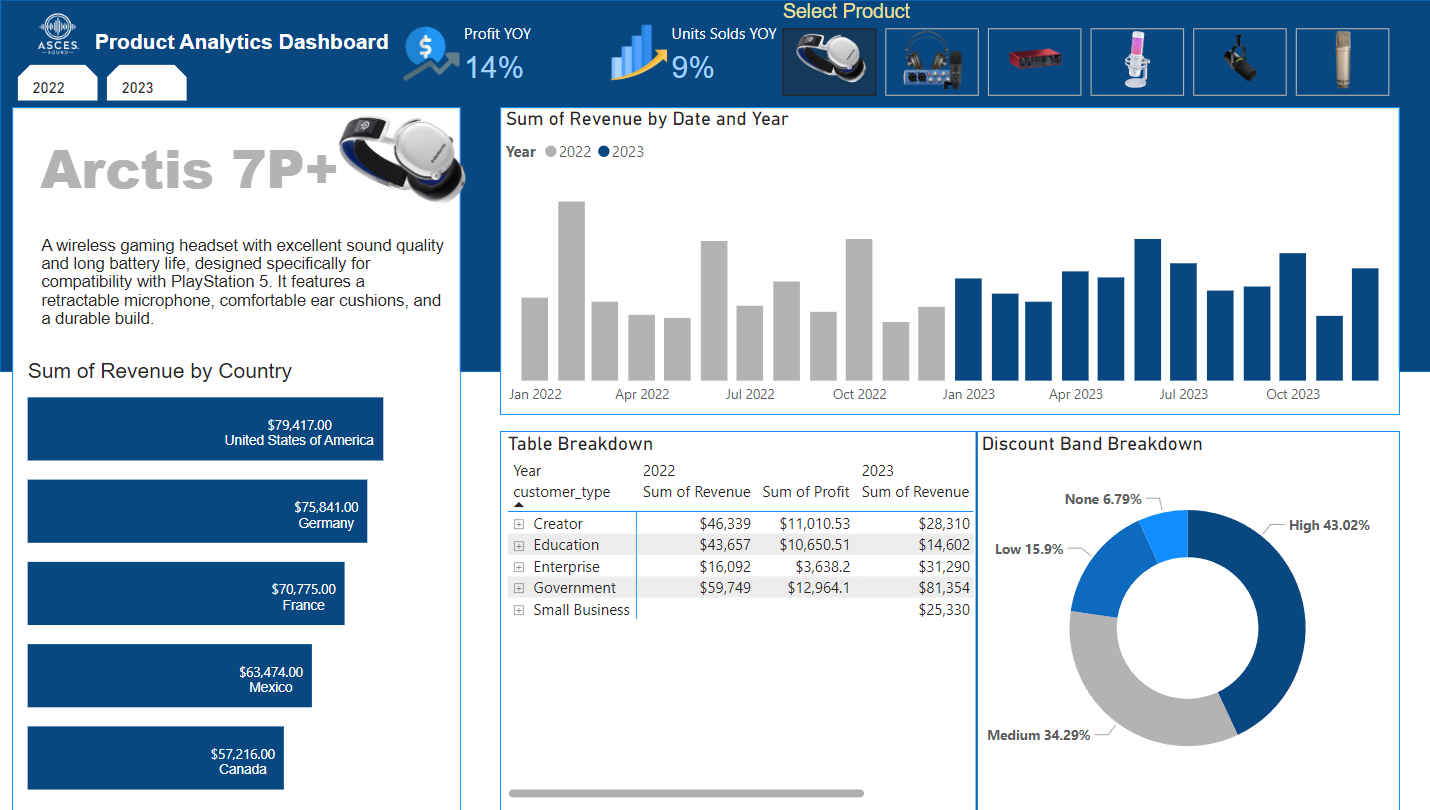

This screenshot's page, from the dashboard's own definition file:
{"tool":"powerbi","page":{"name":"Dashboard","canvas":[1280,720],"ordinal":0},"visuals":[{"type":"shape","box":[0,0,1269.5,329.9],"z":0},{"type":"shape","box":[10.5,95.2,398.4,624.9],"z":1000},{"type":"shape","box":[443.7,95.2,798,273],"z":2000},{"type":"shape","box":[443.7,382.1,798,338],"z":3000},{"type":"image","box":[19.7,3.5,60.4,51.1],"z":4000},{"type":"advancedSlicerVisual","title":"Select Product","fields":{"Values":["Query1.image_url"]},"box":[688.8,0,552.9,90.6],"z":5000},{"type":"cardVisual","fields":{"Data":["Min(Query1.product)"]},"box":[273,76.7,159.1,140.5],"z":6000},{"type":"cardVisual","fields":{"Data":["Min(Query1.description)"]},"box":[19.7,173.1,391.4,145.2],"z":7000},{"type":"clusteredBarChart","fields":{"Category":["Query1.Country"],"Y":["Sum(Query1.Revenue)"]},"box":[19.7,318.3,381,389.1],"z":8000},{"type":"columnChart","fields":{"Y":["Sum(Query1.Revenue)"],"Category":["Date Table.Date"],"Series":["Date Table.Date.Variation.Date Hierarchy.Year"]},"box":[443.7,95.2,798,273],"z":9000},{"type":"donutChart","title":"Discount Band Breakdown","fields":{"Category":["Query1.discount_band"],"Y":["Sum(Query1.Revenue)"]},"box":[865.3,383.3,375.2,328.7],"z":10000},{"type":"pivotTable","title":"Table Breakdown","fields":{"Rows":["Query1.customer_type","Query1.product"],"Columns":["Query1.Year"],"Values":["Sum(Query1.Revenue)","Sum(Query1.Profit)"]},"box":[444.9,383.3,422.8,329.9],"z":11000},{"type":"shape","box":[687.6,383.3,357.7,336.8],"z":12000},{"type":"cardVisual","fields":{"Data":["Query1.Profit YOY","Query1.Units Solds YOY"]},"box":[340.3,3.5,370.5,73.2],"z":13000},{"type":"advancedSlicerVisual","fields":{"Values":["Date Table.Date.Variation.Date Hierarchy.Year"]},"box":[10.5,52.3,161.5,43],"z":14000},{"type":"card","fields":{"Values":["Min(Query1.product)"]},"box":[19.7,95.2,297.4,104.5],"z":15000},{"type":"textbox","box":[79,20.9,353.1,61.6],"z":16000}]}

Visuals, with their boxes in screenshot pixels (x1, y1, x2, y2), scaled from the page's 1280x720 canvas onto the 1430x810 screenshot:
shape: [0,0,1418,371]
shape: [12,107,457,809]
shape: [496,107,1387,414]
shape: [496,430,1387,809]
image: [22,4,89,61]
"Select Product" advancedSlicerVisual: [770,0,1387,102]
cardVisual - Min(Query1.product): [305,86,483,244]
cardVisual - Min(Query1.description): [22,195,459,358]
clusteredBarChart - Query1.Country x Sum(Query1.Revenue): [22,358,448,796]
columnChart - Sum(Query1.Revenue) x Date Table.Date: [496,107,1387,414]
"Discount Band Breakdown" donutChart: [967,431,1386,801]
"Table Breakdown" pivotTable: [497,431,969,802]
shape: [768,431,1168,809]
cardVisual - Query1.Profit YOY x Query1.Units Solds YOY: [380,4,794,86]
advancedSlicerVisual - Date Table.Date.Variation.Date Hierarchy.Year: [12,59,192,107]
card - Min(Query1.product): [22,107,354,225]
textbox: [88,24,483,93]
